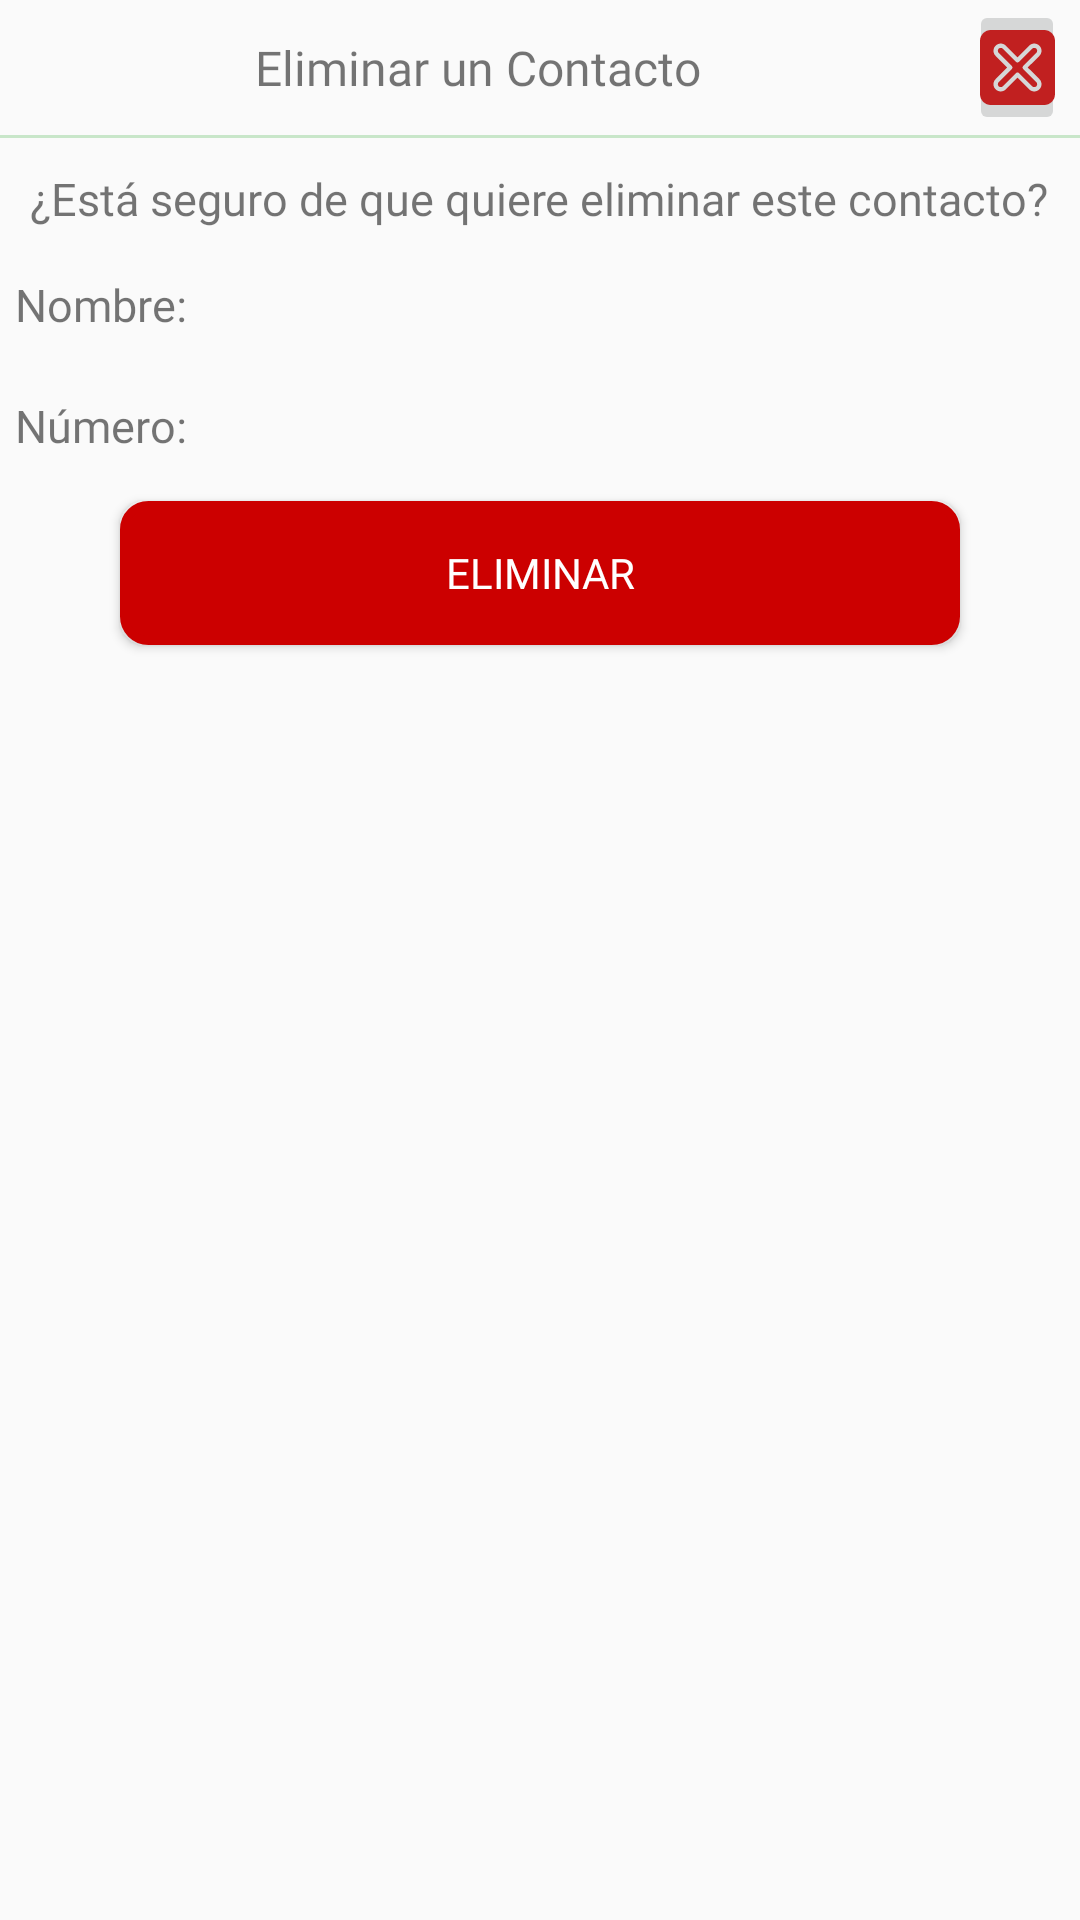

Icon bounding boxes for this 1080w x 1920h phone screenshot, format (x1, y1, x2, y2):
cerrar: (980, 18, 1055, 117)
